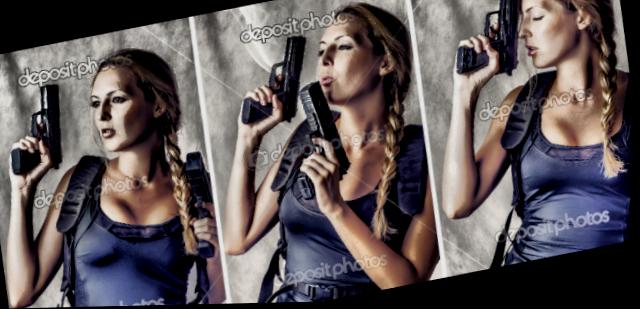pistol: (270, 71, 372, 205), (217, 28, 327, 131), (0, 74, 82, 190), (440, 0, 531, 86), (171, 135, 228, 244)
